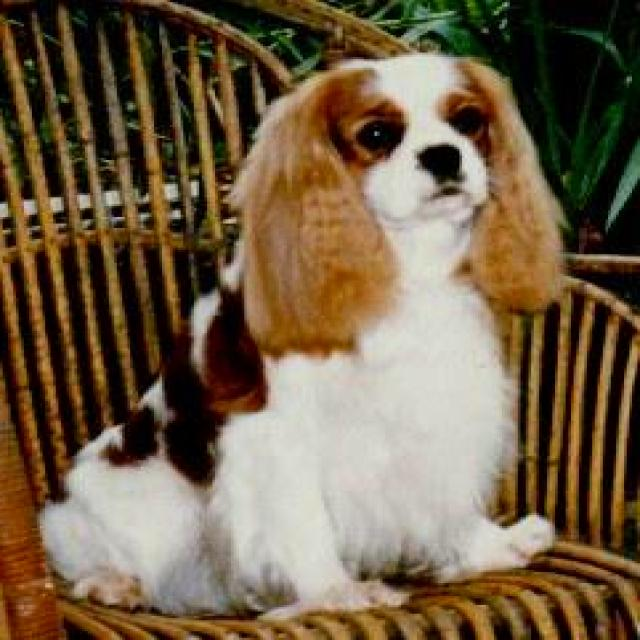blenheim_spaniel: (40, 48, 568, 624)
